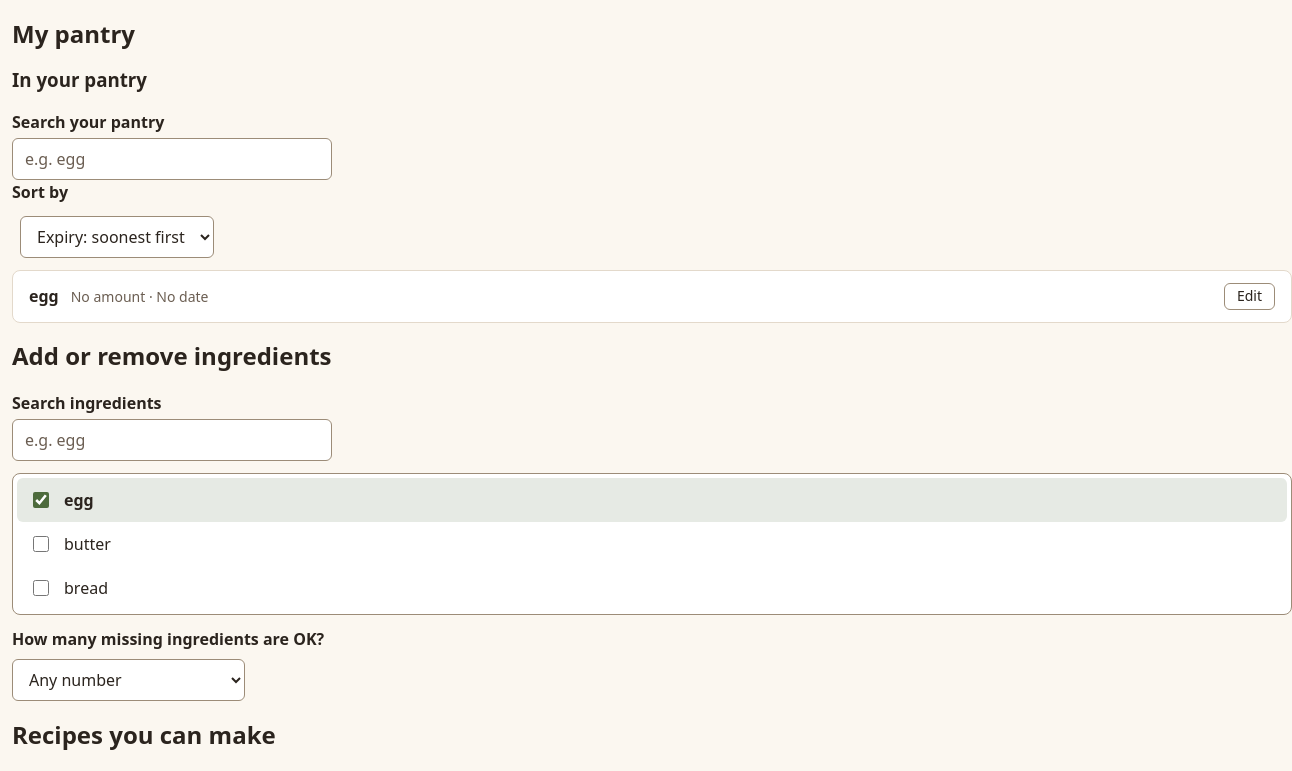
PantryPage: changing the pantry › rolls back a failed add, explains why, and does not refresh the matches
The width and height of the screenshot is (1292, 771).
Expected: the heading "In your pantry" is shown, [12, 67, 147, 92]
Click the checkbox labelled "butter": (41, 544) [33, 536, 49, 552]
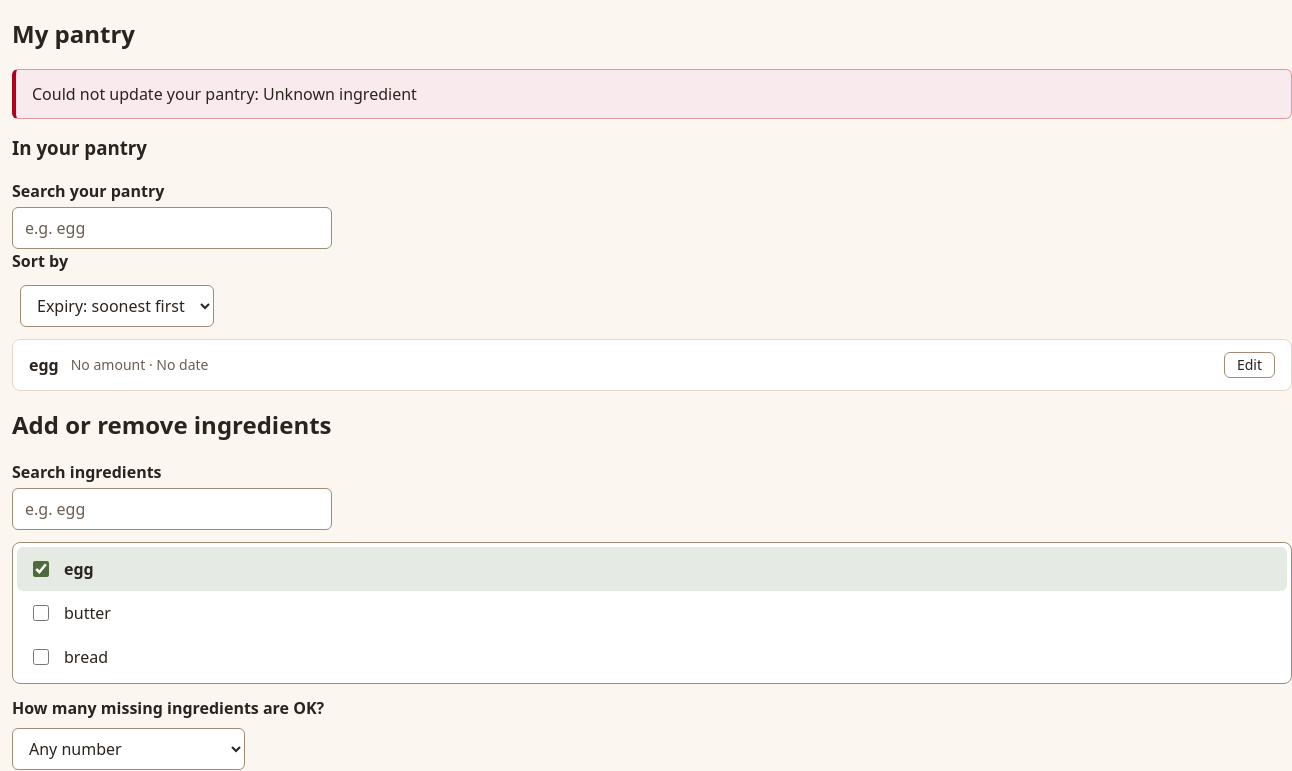
Expected: the checkbox labelled "butter" is not checked, [33, 605, 49, 621]
Expected: the message reads "Could not update your pantry: Unknown ingredient", [12, 69, 1291, 119]
